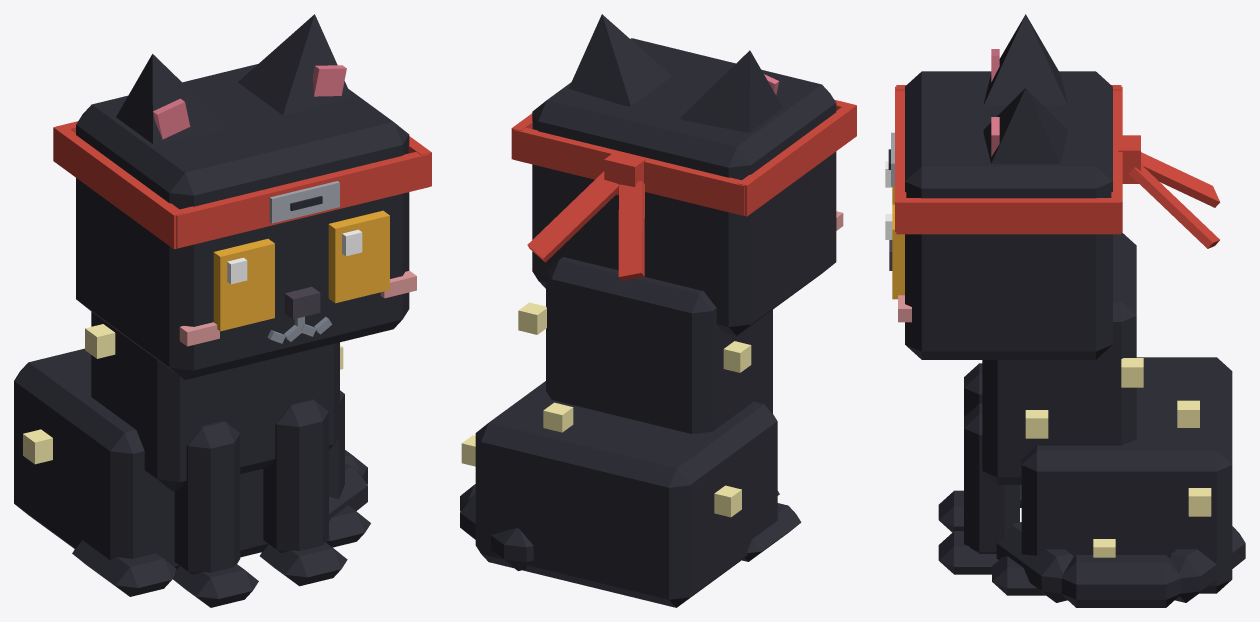
The model's file is CatCafe_Cat_Void_Sit.fbx.
The picture shows the model from 3 angles, left to right: view 1: azimuth 30°, elevation 25°; view 2: azimuth 150°, elevation 25°; view 3: azimuth 270°, elevation 25°; orthographic projection. The views are drawn at different scales.
Visible parts, largest first — view 1: CatCafe_Cat_Void_Sit_Head, CatCafe_Cat_Void_Sit_Body, CatCafe_Cat_Void_Sit_Prop, CatCafe_Cat_Void_Sit_LegF2, CatCafe_Cat_Void_Sit_LegF1, CatCafe_Cat_Void_Sit_EarL, CatCafe_Cat_Void_Sit_EarR, CatCafe_Cat_Void_Sit_Eye1, CatCafe_Cat_Void_Sit_Eye2, CatCafe_Cat_Void_Sit_Tail; view 2: CatCafe_Cat_Void_Sit_Body, CatCafe_Cat_Void_Sit_Head, CatCafe_Cat_Void_Sit_Prop, CatCafe_Cat_Void_Sit_EarL, CatCafe_Cat_Void_Sit_EarR, CatCafe_Cat_Void_Sit_Tail; view 3: CatCafe_Cat_Void_Sit_Body, CatCafe_Cat_Void_Sit_Head, CatCafe_Cat_Void_Sit_Prop, CatCafe_Cat_Void_Sit_Tail, CatCafe_Cat_Void_Sit_LegF1, CatCafe_Cat_Void_Sit_EarL, CatCafe_Cat_Void_Sit_EarR, CatCafe_Cat_Void_Sit_LegF2, CatCafe_Cat_Void_Sit_Eye1.
Boxes of the visible parts, left/top/right/bottom form: CatCafe_Cat_Void_Sit_Head: left=76, top=64, right=416, bottom=379; CatCafe_Cat_Void_Sit_Body: left=14, top=312, right=370, bottom=596; CatCafe_Cat_Void_Sit_Prop: left=53, top=121, right=431, bottom=248; CatCafe_Cat_Void_Sit_LegF2: left=173, top=421, right=258, bottom=607; CatCafe_Cat_Void_Sit_LegF1: left=260, top=399, right=347, bottom=586; CatCafe_Cat_Void_Sit_EarL: left=238, top=14, right=351, bottom=115; CatCafe_Cat_Void_Sit_EarR: left=116, top=54, right=229, bottom=144; CatCafe_Cat_Void_Sit_Eye1: left=328, top=210, right=389, bottom=303; CatCafe_Cat_Void_Sit_Eye2: left=213, top=238, right=274, bottom=331; CatCafe_Cat_Void_Sit_Tail: left=329, top=450, right=367, bottom=520; CatCafe_Cat_Void_Sit_Body: left=461, top=257, right=801, bottom=607; CatCafe_Cat_Void_Sit_Head: left=532, top=38, right=843, bottom=335; CatCafe_Cat_Void_Sit_Prop: left=511, top=99, right=856, bottom=280; CatCafe_Cat_Void_Sit_EarL: left=568, top=14, right=671, bottom=106; CatCafe_Cat_Void_Sit_EarR: left=680, top=50, right=782, bottom=132; CatCafe_Cat_Void_Sit_Tail: left=460, top=484, right=533, bottom=570; CatCafe_Cat_Void_Sit_Body: left=982, top=232, right=1232, bottom=595; CatCafe_Cat_Void_Sit_Head: left=889, top=71, right=1112, bottom=359; CatCafe_Cat_Void_Sit_Prop: left=888, top=85, right=1220, bottom=248; CatCafe_Cat_Void_Sit_Tail: left=996, top=522, right=1245, bottom=607; CatCafe_Cat_Void_Sit_LegF1: left=938, top=403, right=1019, bottom=574; CatCafe_Cat_Void_Sit_EarL: left=983, top=88, right=1067, bottom=163; CatCafe_Cat_Void_Sit_EarR: left=983, top=14, right=1067, bottom=105; CatCafe_Cat_Void_Sit_LegF2: left=938, top=363, right=982, bottom=532; CatCafe_Cat_Void_Sit_Eye1: left=885, top=204, right=904, bottom=299.
Size of the model in its own units: 1.08 by 1.85 by 1.22.
1 material, 1 textured.
